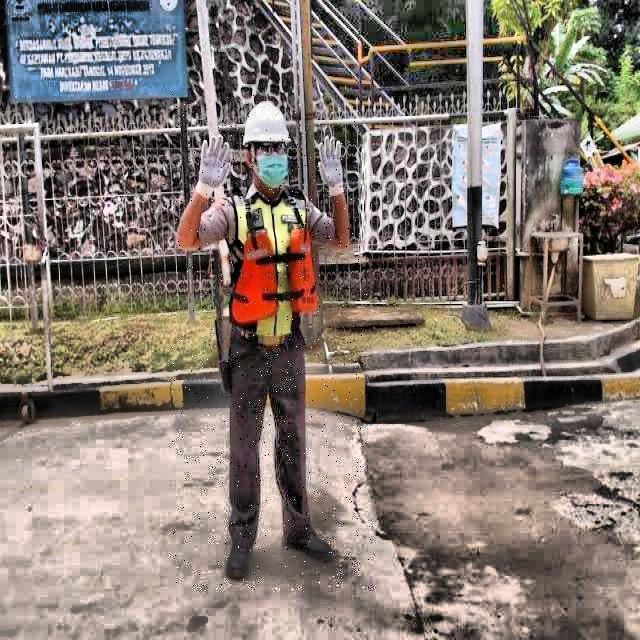safety_helmet: (244, 103, 292, 147)
safety_jacket: (227, 191, 320, 345)
